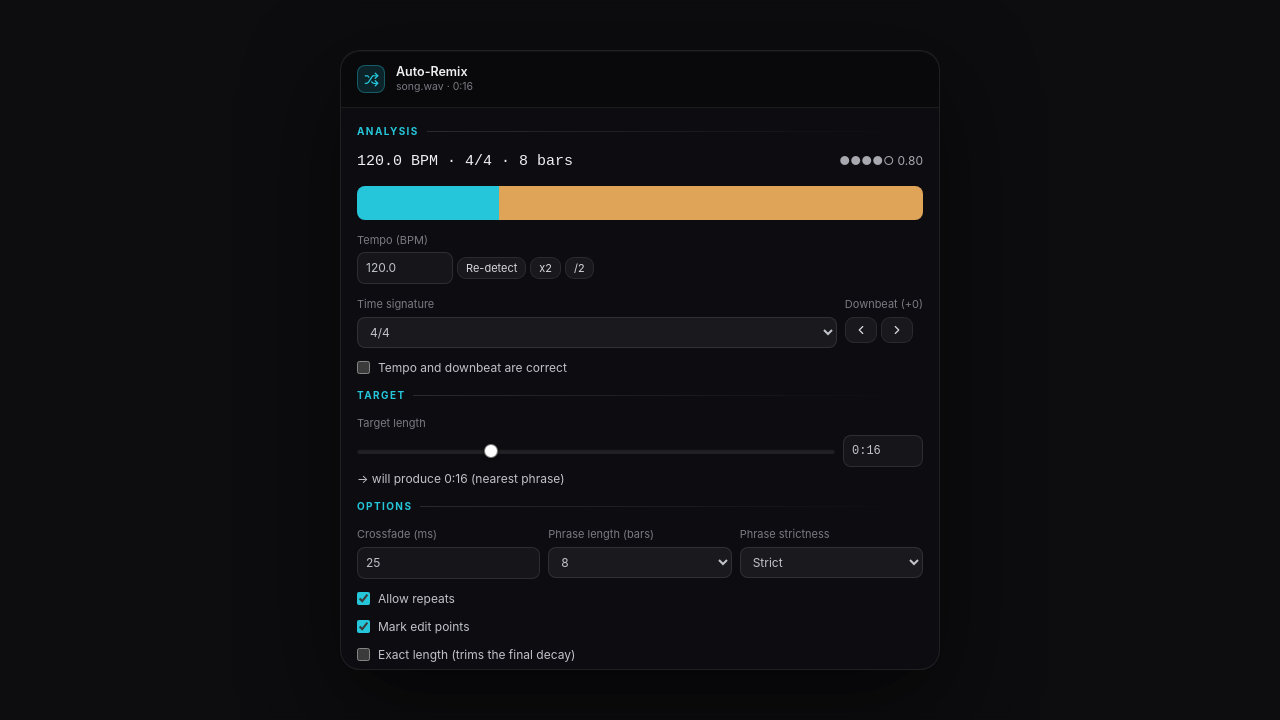
Test: RemixDialog › 10. a service refusal renders inline and keeps the dialog open
Click the checkbox with test id "remix-tempo-confirmed": (364,368) [357,361,370,374]
(page scrolled)
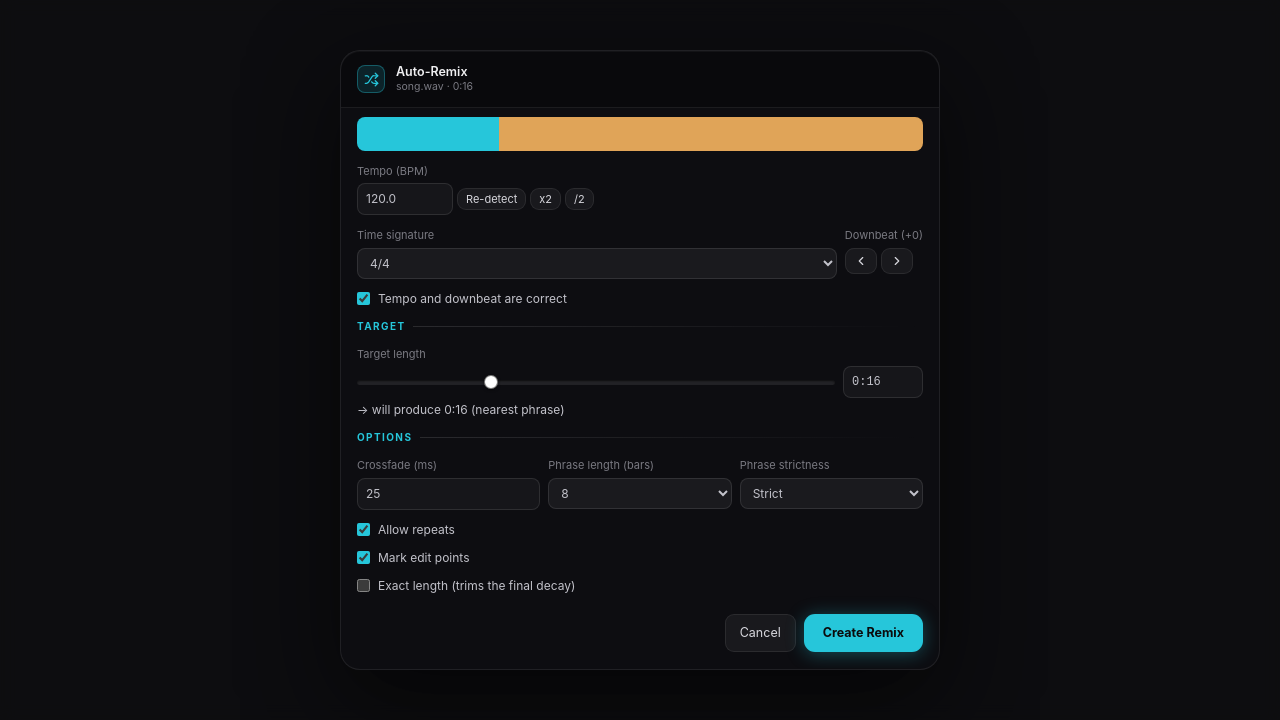
Click the button "Create Remix": (863,633) [804,614,923,652]
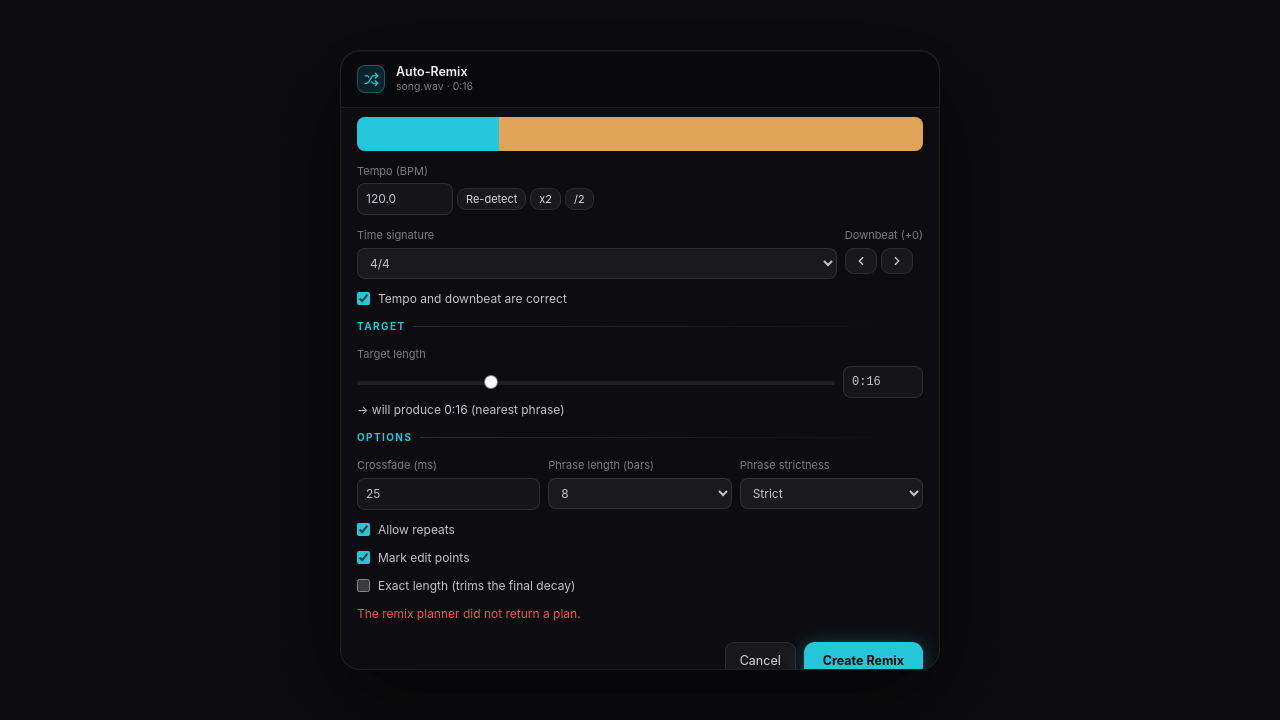
Expected: the element with test id "remix-dialog" is shown, [357,108,923,669]
Now the text with test id "remix-error" reads "The remix planner did not return a plan.", box [357,606,581,621]
